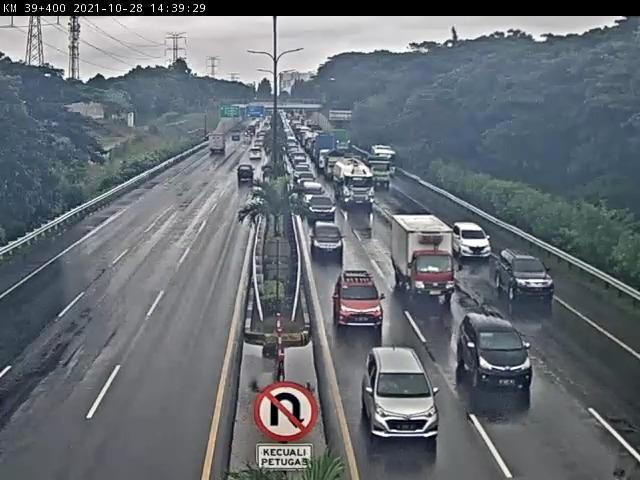car: (360, 345, 443, 450), (454, 314, 537, 398), (493, 247, 557, 307), (327, 270, 387, 328), (452, 218, 496, 264), (311, 215, 348, 264), (302, 190, 338, 224), (237, 166, 255, 185)
truck: (386, 209, 465, 306), (333, 159, 375, 208), (367, 151, 396, 191), (207, 135, 227, 156)
